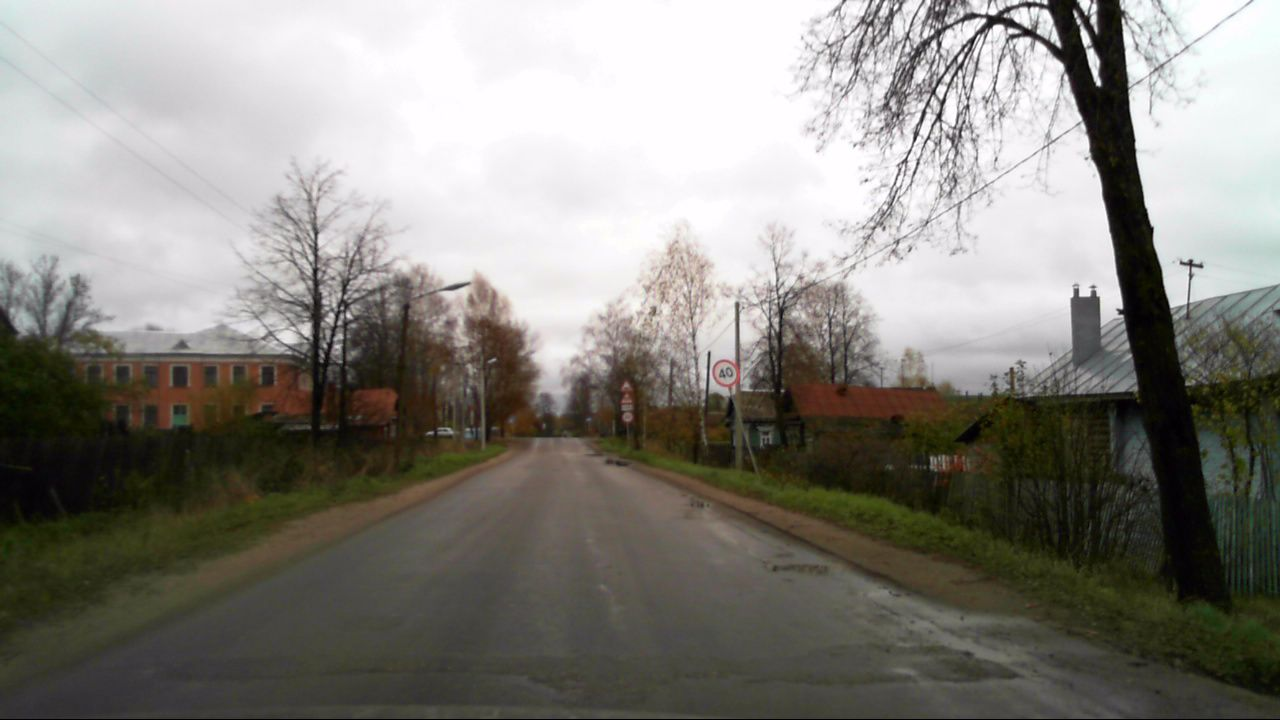speed_warning_40: (710, 358, 740, 388)
